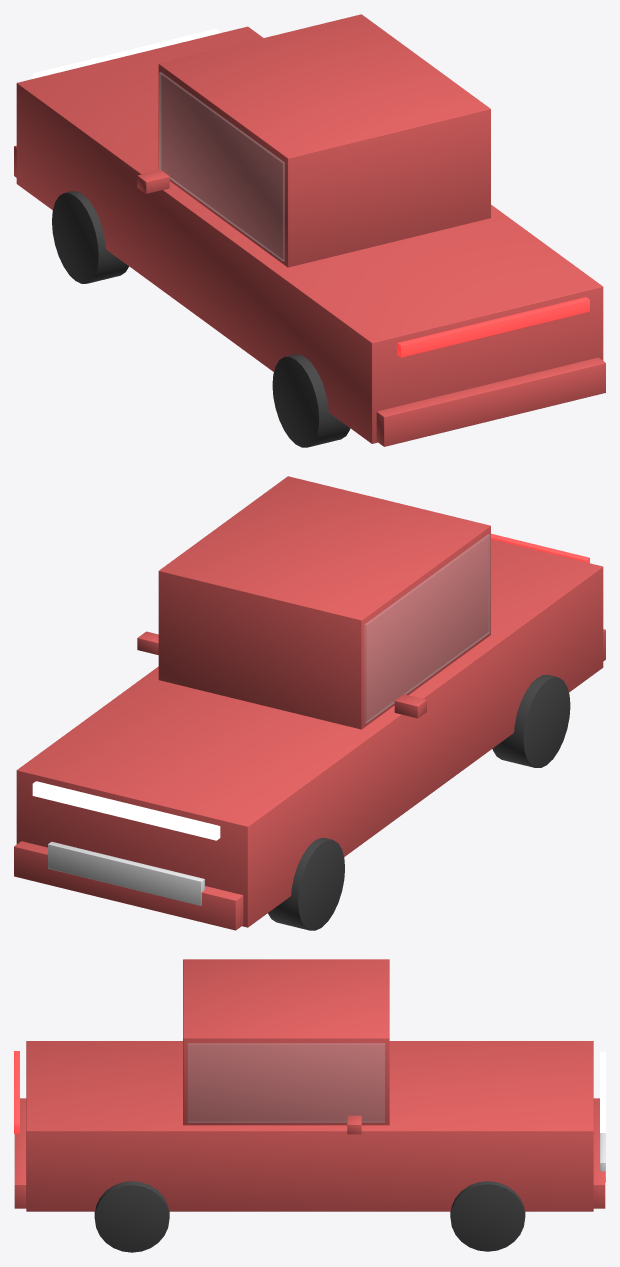
Rendered from vehicle.glb.
3 views of the same model, one above another, from view 1: azimuth 30°, elevation 25°; view 2: azimuth 150°, elevation 25°; view 3: azimuth 270°, elevation 25° (orthographic). The views are drawn at different scales.
Visible parts, largest first — view 1: BODY_Main, BODY_Roof, GLASS_Greenhouse, BODY_Bumpers_Rear, WHEEL_RR_Tire, WHEEL_FR_Tire, LIGHT_Taillights, LIGHT_Headlights, BODY_Mirror_R; view 2: BODY_Main, BODY_Roof, GLASS_Greenhouse, BODY_Bumpers_Front, WHEEL_RR_Tire, BODY_Grille, WHEEL_FR_Tire, LIGHT_Headlights, BODY_Mirror_R, LIGHT_Taillights; view 3: BODY_Main, BODY_Roof, GLASS_Greenhouse, WHEEL_RL_Tire, WHEEL_FL_Tire, BODY_Bumpers_Rear, BODY_Bumpers_Front, LIGHT_Taillights, LIGHT_Headlights.
Part boxes in pixels (x1,y1,x2,y2): BODY_Main: [16, 26, 603, 443]; BODY_Roof: [158, 14, 490, 267]; GLASS_Greenhouse: [159, 72, 284, 261]; BODY_Bumpers_Rear: [376, 357, 605, 446]; WHEEL_RR_Tire: [272, 354, 350, 447]; WHEEL_FR_Tire: [52, 191, 128, 283]; LIGHT_Taillights: [397, 297, 589, 357]; LIGHT_Headlights: [32, 28, 220, 78]; BODY_Mirror_R: [137, 170, 169, 193]; BODY_Main: [16, 539, 603, 927]; BODY_Roof: [158, 476, 490, 729]; GLASS_Greenhouse: [364, 534, 490, 723]; BODY_Bumpers_Front: [14, 841, 243, 930]; WHEEL_RR_Tire: [492, 675, 570, 767]; BODY_Grille: [48, 841, 204, 905]; WHEEL_FR_Tire: [268, 838, 344, 930]; LIGHT_Headlights: [32, 781, 220, 840]; BODY_Mirror_R: [394, 694, 426, 718]; LIGHT_Taillights: [491, 533, 589, 563]; BODY_Main: [26, 1041, 593, 1211]; BODY_Roof: [183, 959, 389, 1125]; GLASS_Greenhouse: [188, 1043, 384, 1122]; WHEEL_RL_Tire: [94, 1181, 169, 1252]; WHEEL_FL_Tire: [450, 1181, 525, 1251]; BODY_Bumpers_Rear: [14, 1098, 26, 1208]; BODY_Bumpers_Front: [593, 1098, 605, 1208]; LIGHT_Taillights: [14, 1051, 19, 1133]; LIGHT_Headlights: [600, 1051, 605, 1132].
Bounding box in the file's own units: 2.14 × 1.88 × 4.91.
